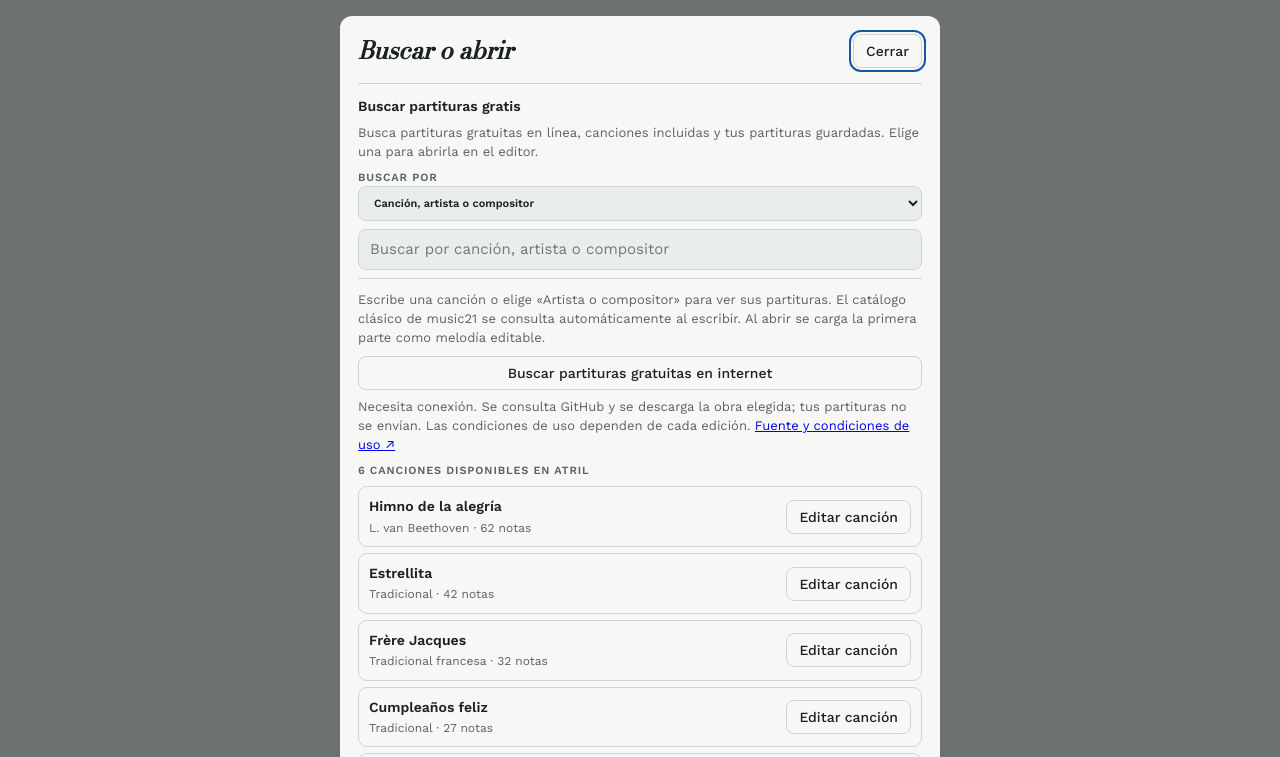
FindOverlay › permite volver al catálogo después de una búsqueda sin coincidencias
Type "zzzinexistente" into the search field.
click(640, 250); type("zzzinexistente")  # box [358,229,922,270]
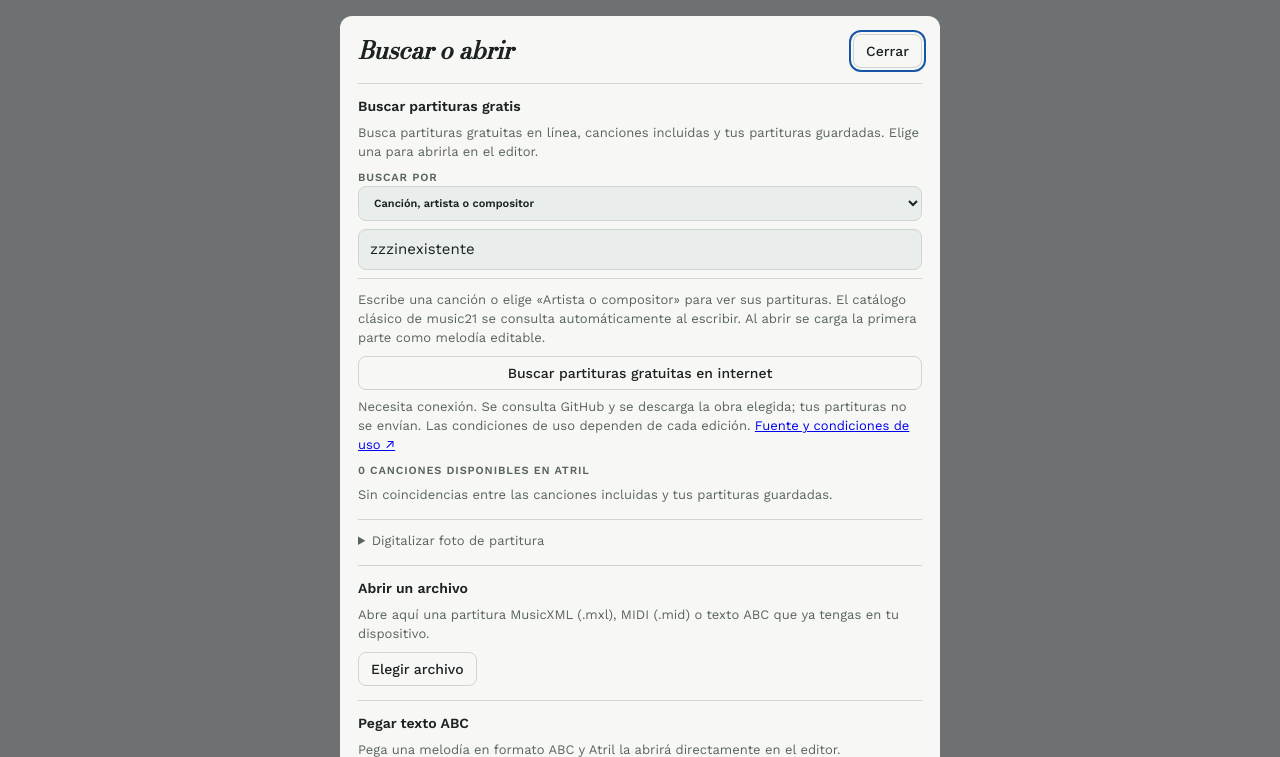
expect the button "Editar canción" is gone: met
Replace the text in the search field with "  FRERE JACQUES  " at {"x": 640, "y": 250}, box [358,229,922,270]
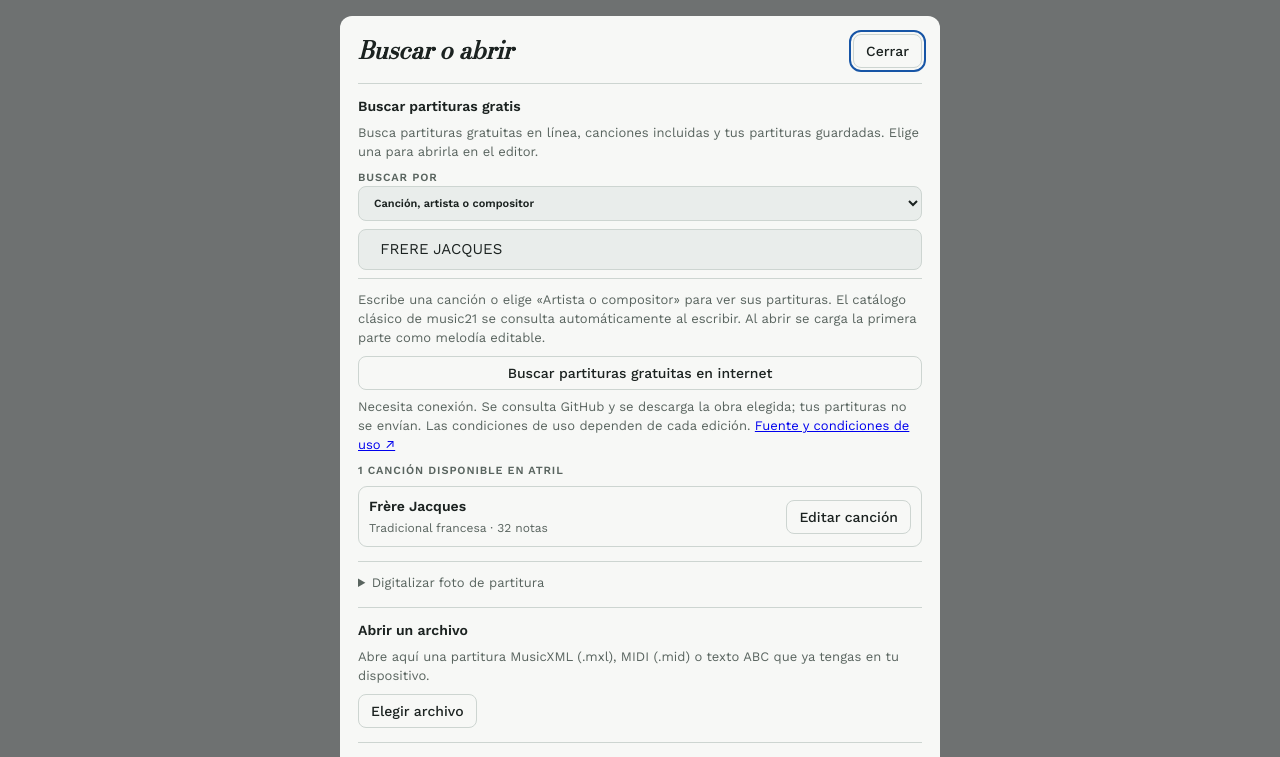
expect the button "Editar canción" is shown: met, box [786,500,911,534]
